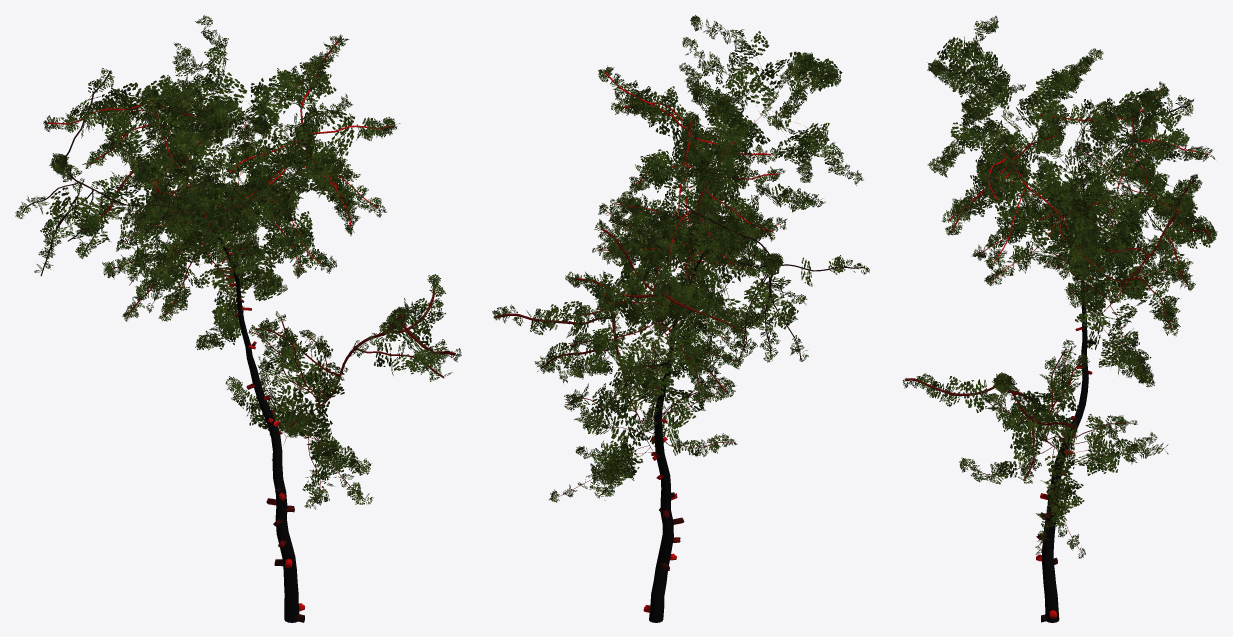
The model's file is Tree_21.fbx.
The picture shows the model from 3 angles, left to right: view 1: azimuth 30°, elevation 25°; view 2: azimuth 150°, elevation 25°; view 3: azimuth 270°, elevation 25°; orthographic projection. The views are drawn at different scales.
Visible parts, largest first — view 1: Tree_21; view 2: Tree_21; view 3: Tree_21.
Boxes of the visible parts, x1,y1,x2,y2 form: Tree_21: [15, 15, 461, 622]; Tree_21: [492, 15, 869, 622]; Tree_21: [903, 16, 1217, 622].
Size of the model in its own units: 3278 by 4614 by 2421.
